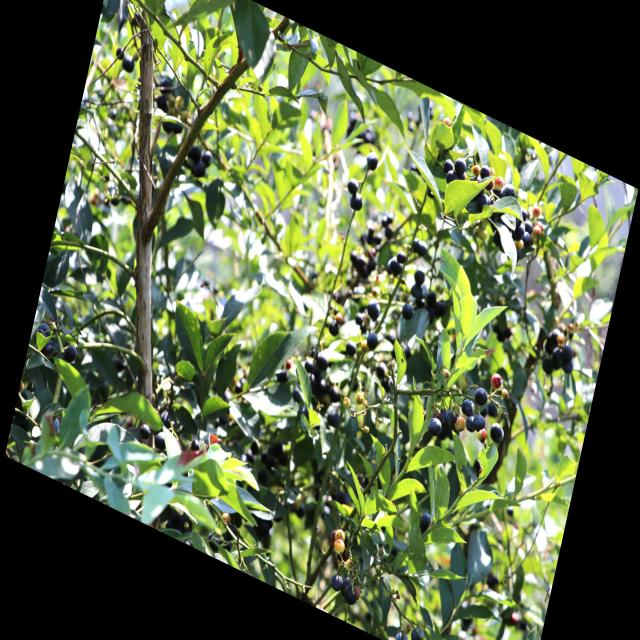blueberry: (487, 420, 506, 447), (364, 296, 383, 322), (510, 216, 527, 244), (342, 580, 360, 606), (439, 406, 455, 434), (349, 187, 366, 213), (472, 385, 490, 409), (341, 336, 359, 360), (364, 148, 381, 173), (345, 172, 362, 197), (363, 328, 380, 353), (412, 234, 429, 258), (408, 620, 428, 640), (426, 415, 444, 437), (328, 570, 344, 594), (400, 300, 416, 322), (502, 180, 518, 202), (460, 397, 476, 418), (475, 190, 490, 212), (453, 155, 468, 176), (326, 317, 340, 338), (445, 167, 459, 187), (472, 413, 486, 432), (394, 247, 408, 266), (393, 626, 412, 640), (519, 228, 532, 248), (464, 414, 476, 433), (442, 155, 454, 174), (339, 577, 350, 597), (446, 407, 458, 425), (490, 187, 503, 202), (480, 163, 491, 180), (522, 218, 534, 233), (458, 172, 466, 182)
blueberry-halfripe: (489, 370, 504, 391), (476, 425, 488, 444), (493, 174, 505, 192), (531, 223, 542, 240), (530, 204, 542, 219), (484, 175, 494, 192), (534, 218, 545, 230)
blueberry-unripe: (332, 536, 347, 557), (456, 371, 470, 393), (453, 414, 468, 434), (343, 556, 355, 574), (334, 526, 346, 544), (478, 214, 489, 231), (471, 162, 482, 179), (480, 227, 489, 242), (442, 367, 451, 381), (474, 224, 483, 238)
